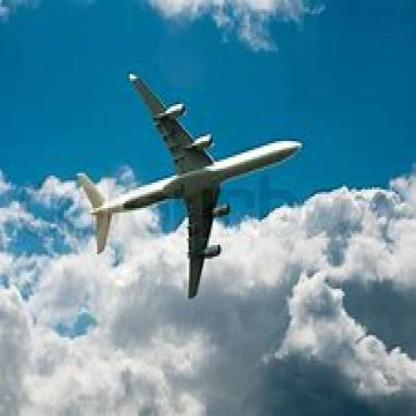plane: (73, 64, 318, 309)
